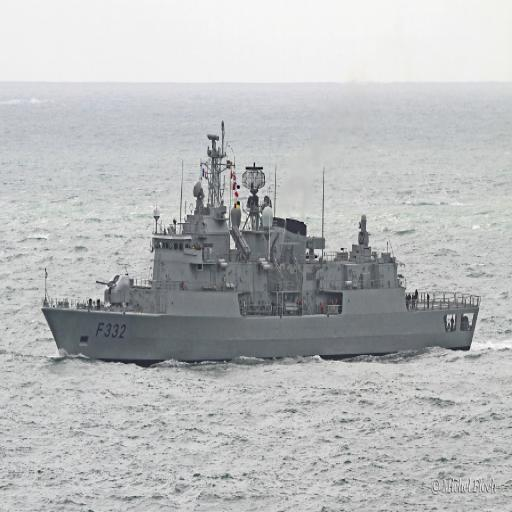Fragata: (40, 129, 486, 368)
